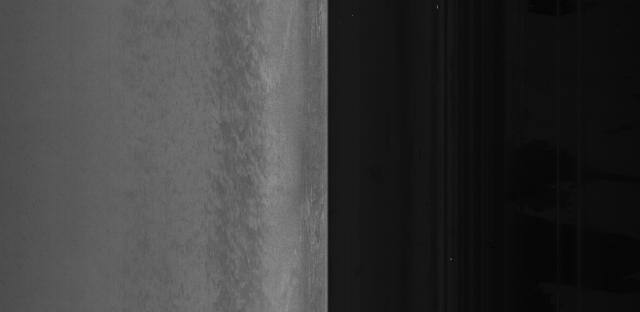silk_spot: (208, 110, 280, 182)
